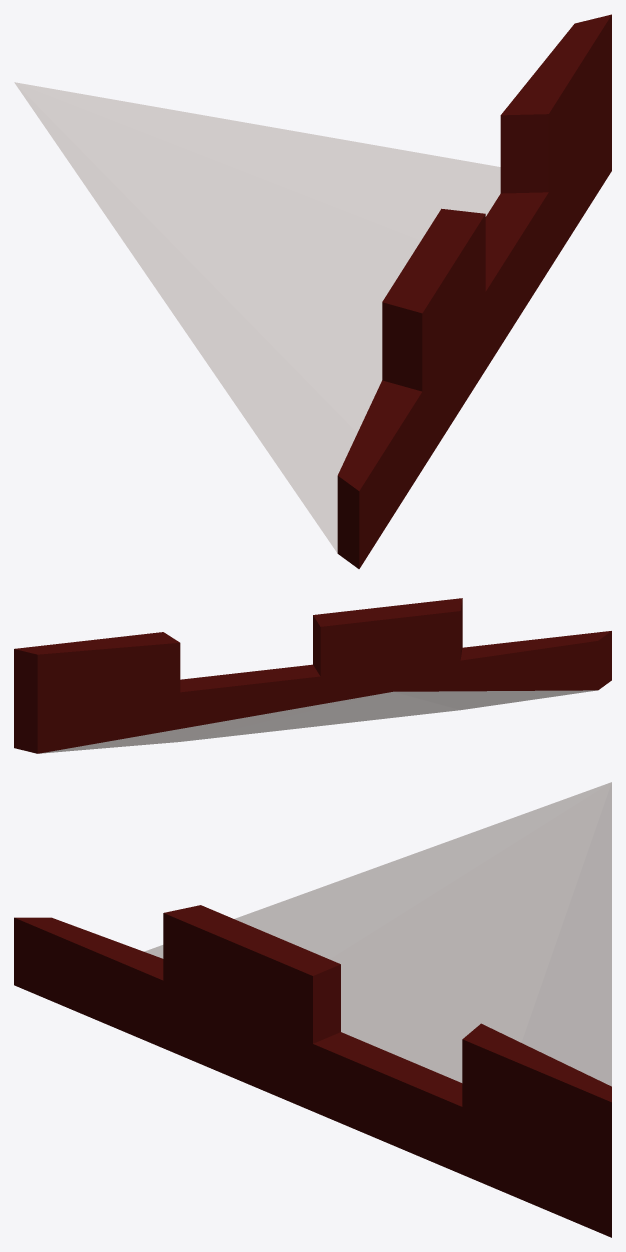
Rendered from model_loc_1670_s.obj.
The picture shows the model from 3 angles, top to bottom: view 1: azimuth 30°, elevation 25°; view 2: azimuth 150°, elevation 25°; view 3: azimuth 270°, elevation 25°; orthographic projection. The views are drawn at different scales.
Parts seen in each view (by area): view 1: 1982; view 2: 1982; view 3: 1982.
Part boxes in pixels (x1,y1,x2,y2): 1982: (14,14,611,568); 1982: (14,598,611,753); 1982: (14,782,611,1237).
Bounding box in the file's own units: 128 × 48 × 128.
